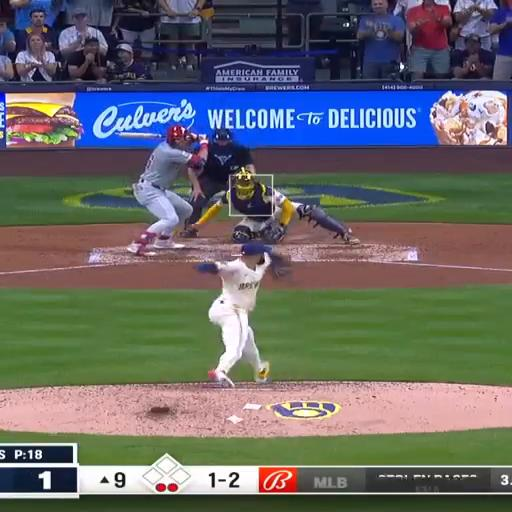bat: (116, 132, 164, 139)
